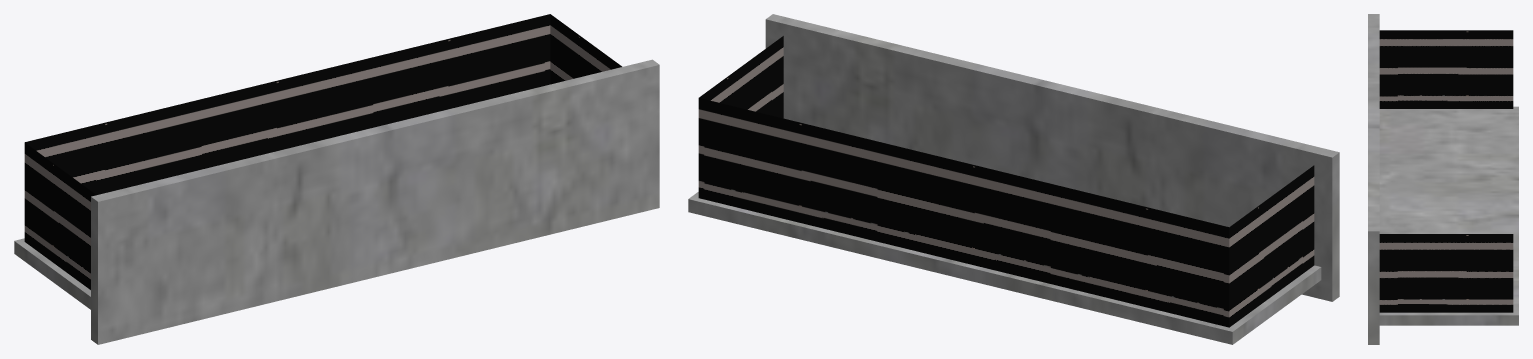
Rendered from Shelf_05.glb.
The picture shows the model from 3 angles, left to right: view 1: azimuth 30°, elevation 25°; view 2: azimuth 150°, elevation 25°; view 3: azimuth 270°, elevation 25°; orthographic projection. The views are drawn at different scales.
Parts seen in each view (by area): view 1: Shelf_05; view 2: Shelf_05; view 3: Shelf_05.
Part boxes in pixels (<box>): Shelf_05: <box>14,14,659,344</box>; Shelf_05: <box>688,14,1339,344</box>; Shelf_05: <box>1368,14,1518,344</box>.
Bounding box in the file's own units: 0.2925 × 0.0712 × 0.0857.
2 materials, 2 textured.
